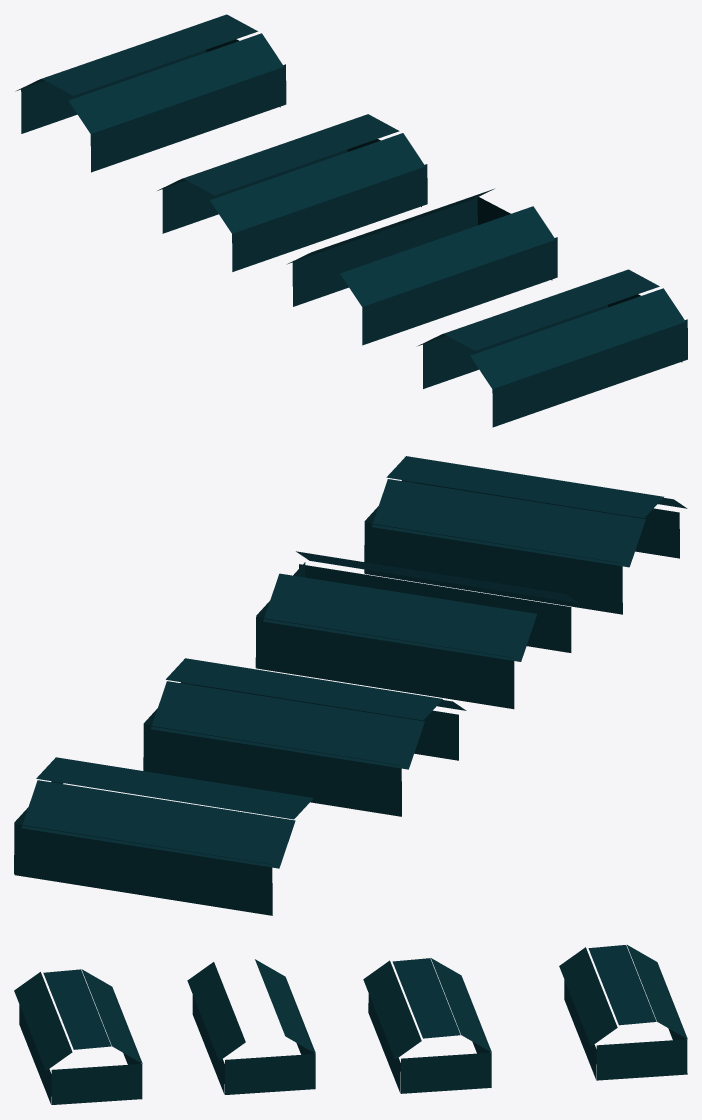
The model's file is 3thirdIsland-hangar.obj.
3 views of the same model, one above another, from view 1: azimuth 30°, elevation 25°; view 2: azimuth 150°, elevation 25°; view 3: azimuth 270°, elevation 25° (orthographic). The views are drawn at different scales.
Visible parts, largest first — view 1: Plane.004, Plane.018, Plane.046, Plane.032, Plane.028, Plane, Plane.010, Plane.042, Plane.001, Plane.019, Plane.047, Plane.033 (+4 smaller); view 2: Plane.045, Plane.017, Plane.003, Plane.031, Plane.001, Plane.043, Plane.013, Plane.029, Plane.019, Plane.033, Plane.047, Plane (+3 smaller); view 3: Plane.030, Plane.044, Plane.016, Plane.002, Plane.019, Plane.033, Plane.047, Plane.004, Plane.018, Plane.032, Plane.046, Plane.031 (+7 smaller).
Boxes of the visible parts, x1=… form: Plane.004: x1=340, y1=206, x2=555, y2=306; Plane.018: x1=210, y1=133, x2=425, y2=233; Plane.046: x1=68, y1=33, x2=283, y2=133; Plane.032: x1=470, y1=288, x2=685, y2=388; Plane.028: x1=492, y1=319, x2=687, y2=427; Plane: x1=362, y1=237, x2=557, y2=345; Plane.010: x1=232, y1=164, x2=427, y2=271; Plane.042: x1=90, y1=64, x2=286, y2=172; Plane.001: x1=292, y1=197, x2=477, y2=306; Plane.019: x1=183, y1=114, x2=399, y2=195; Plane.047: x1=42, y1=14, x2=257, y2=95; Plane.033: x1=444, y1=269, x2=659, y2=350; Plane.045: x1=21, y1=780, x2=295, y2=868; Plane.017: x1=151, y1=681, x2=424, y2=769; Plane.003: x1=263, y1=573, x2=537, y2=661; Plane.031: x1=371, y1=479, x2=645, y2=567; Plane.001: x1=256, y1=617, x2=514, y2=709; Plane.043: x1=14, y1=824, x2=272, y2=915; Plane.013: x1=143, y1=724, x2=401, y2=816; Plane.029: x1=364, y1=522, x2=622, y2=614; Plane.019: x1=166, y1=658, x2=442, y2=720; Plane.033: x1=386, y1=456, x2=663, y2=518; Plane.047: x1=36, y1=757, x2=313, y2=819; Plane: x1=299, y1=564, x2=571, y2=652; Plane.030: x1=51, y1=1064, x2=142, y2=1104; Plane.044: x1=596, y1=1039, x2=687, y2=1080; Plane.016: x1=401, y1=1052, x2=491, y2=1093; Plane.002: x1=225, y1=1054, x2=315, y2=1094; Plane.019: x1=392, y1=958, x2=460, y2=1038; Plane.033: x1=43, y1=969, x2=111, y2=1049; Plane.047: x1=588, y1=945, x2=656, y2=1025; Plane.004: x1=187, y1=962, x2=245, y2=1060; Plane.018: x1=363, y1=960, x2=421, y2=1059; Plane.032: x1=14, y1=972, x2=72, y2=1070; Plane.046: x1=559, y1=947, x2=617, y2=1046; Plane.031: x1=81, y1=969, x2=142, y2=1063.
Bounding box in the file's own units: 18.71 × 5.06 × 50.34.
